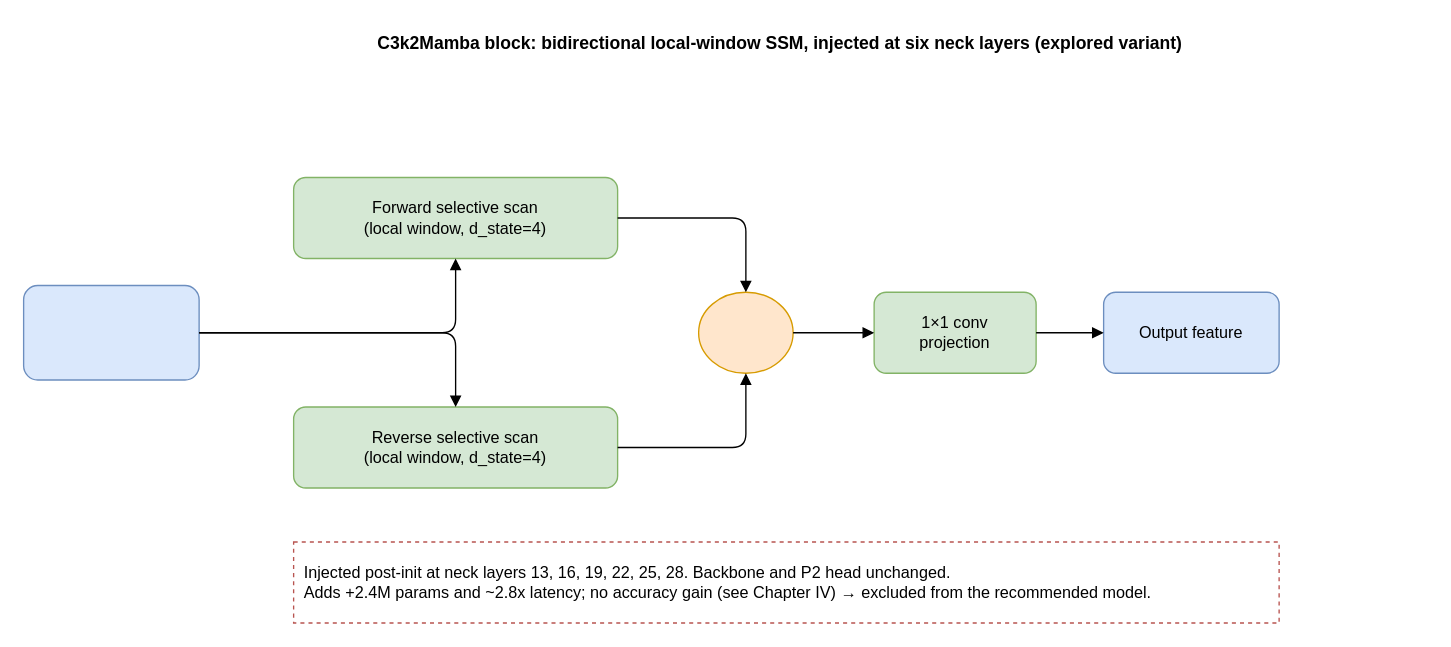
The diagram is 1451 pixels wide and 647 high, and some of its shapes have lost their labels. The box of each missing label's shape, as (x1, y1, x2, y2) in pixels:
Fuse (sum): (697, 291, 793, 373)
Neck feature (from C3k2 slot): (22, 284, 199, 380)
